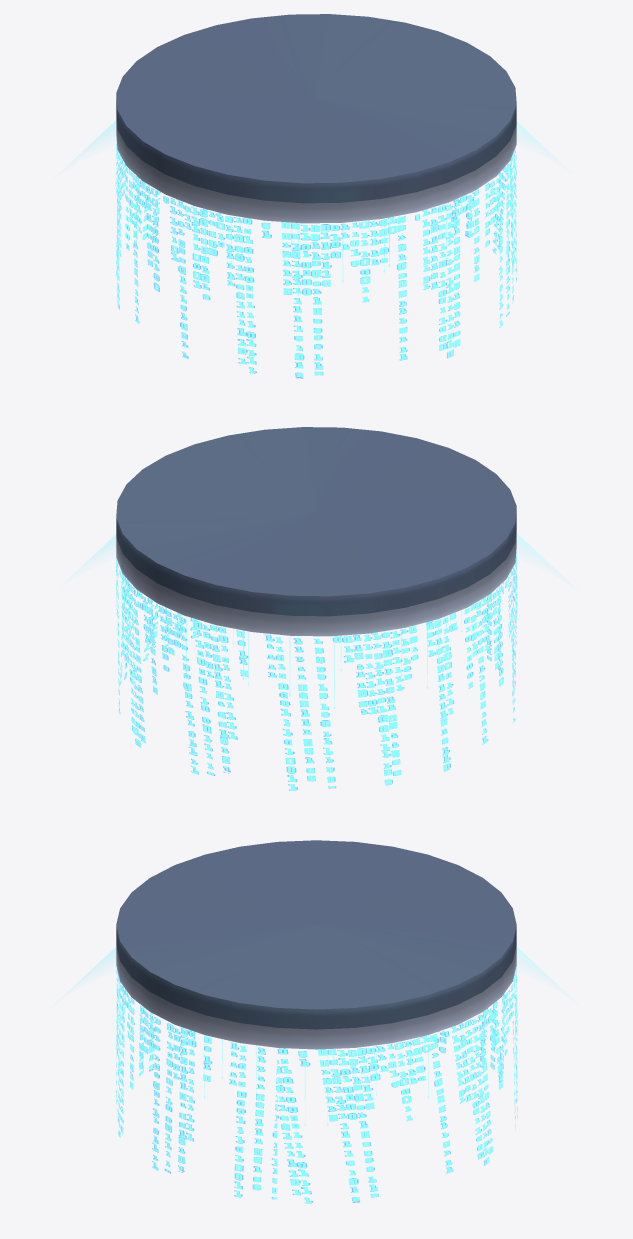
The model's file is obj_chandelier.gltf.
3 renders of one model, top to bottom at view 1: azimuth 30°, elevation 25°; view 2: azimuth 150°, elevation 25°; view 3: azimuth 270°, elevation 25°, orthographic.
Parts seen in each view (by area): view 1: obj_chandelier; view 2: obj_chandelier; view 3: obj_chandelier.
Boxes of the visible parts, x1,y1,x2,y2 form: obj_chandelier: (81,14,543,378); obj_chandelier: (89,427,551,790); obj_chandelier: (76,840,556,1203).
Size of what is drawn, in the model's own units: 6.6 by 2.58 by 6.6.
Materials: 3 (3 with a texture image).
